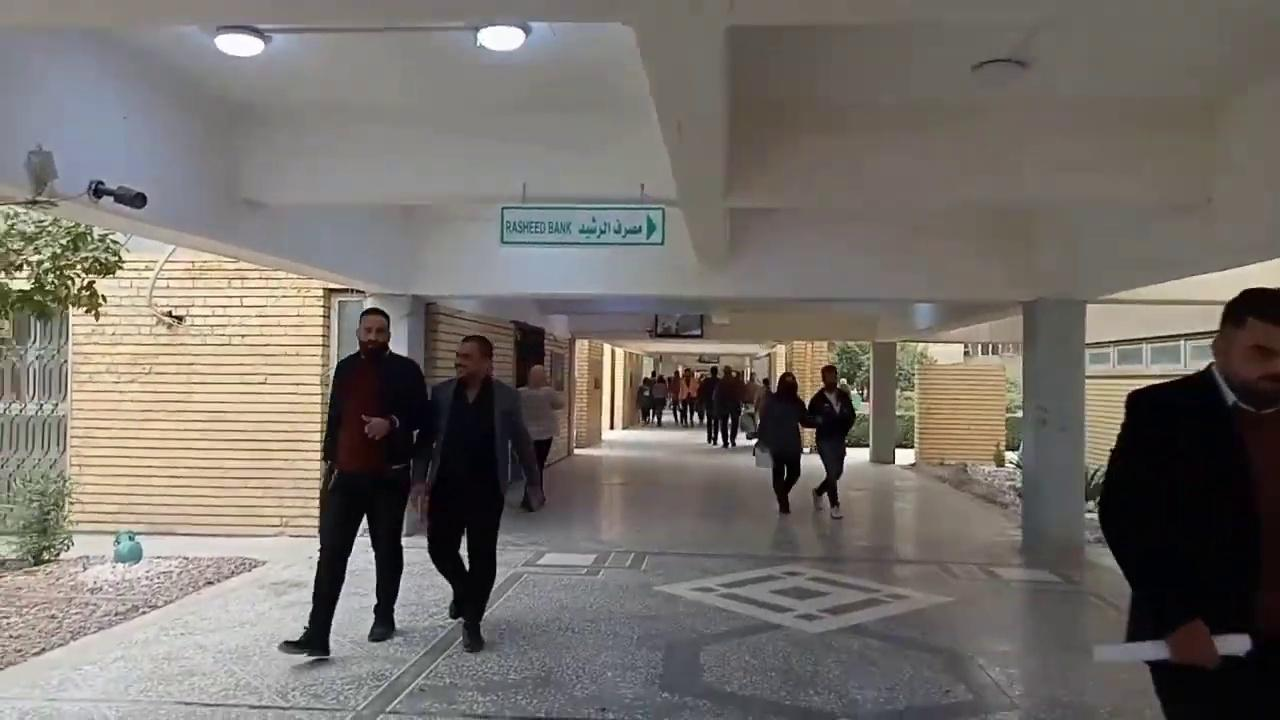person: (1097, 285, 1279, 719), (277, 306, 429, 657), (407, 334, 542, 652), (754, 371, 817, 513), (807, 364, 856, 519), (513, 364, 564, 512)
tree: (0, 200, 126, 566), (0, 202, 126, 323), (826, 339, 936, 449), (6, 463, 80, 566), (827, 340, 870, 397)
